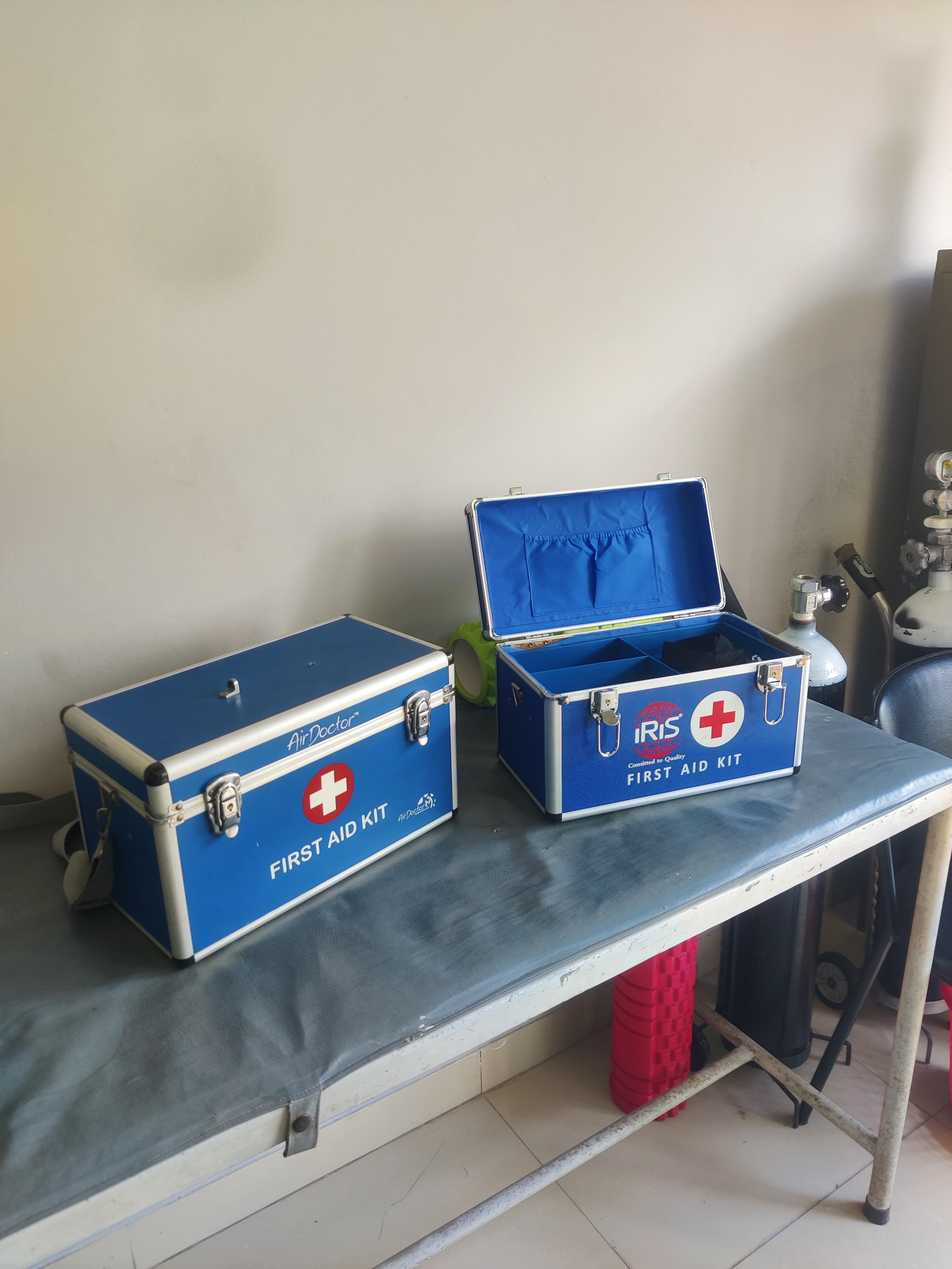FirstAidBox: (44, 602, 463, 995), (463, 469, 843, 846)
